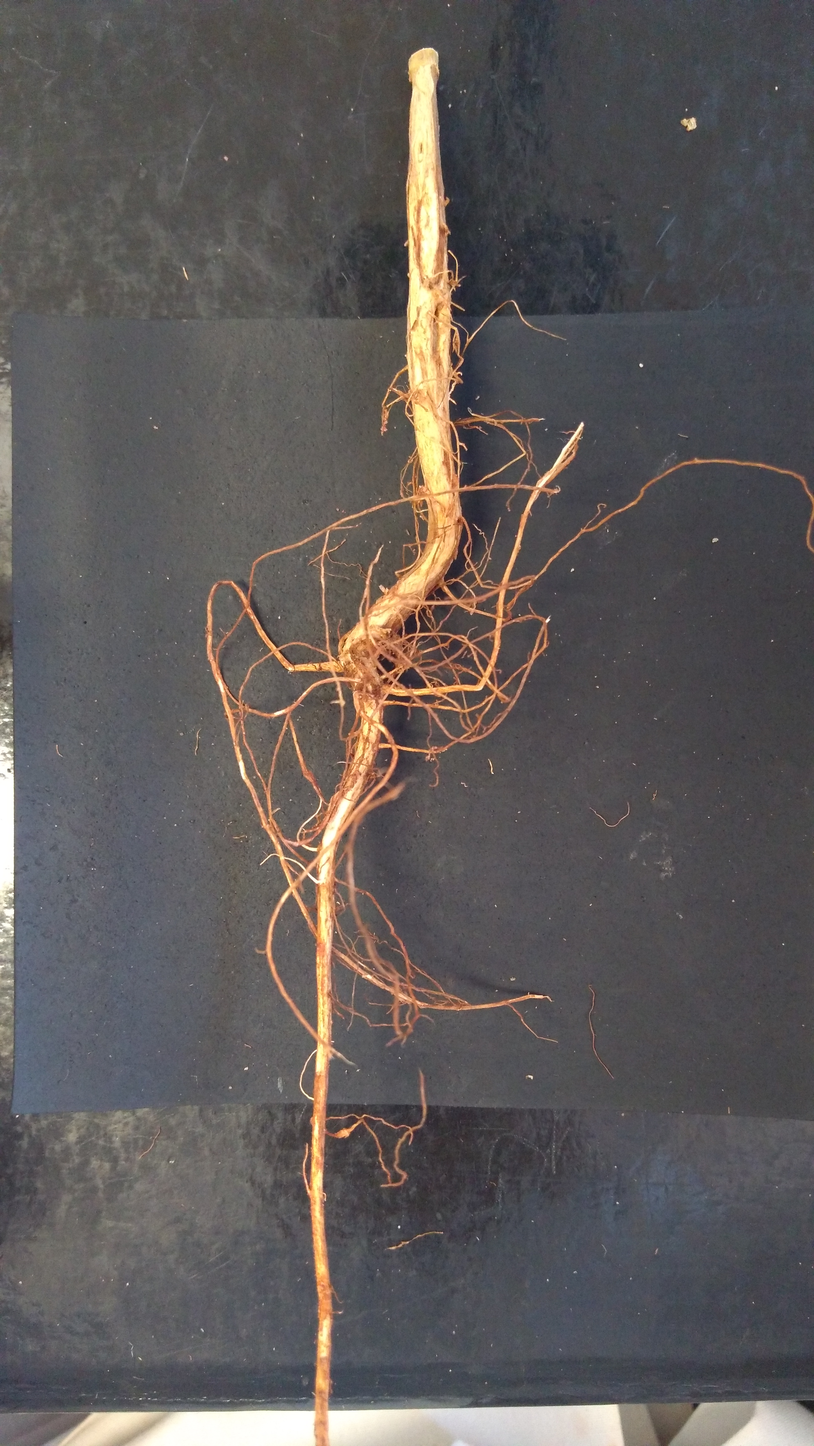nodule: (383, 633, 404, 653), (680, 116, 697, 131), (338, 651, 351, 667), (336, 1128, 350, 1139), (418, 484, 431, 495), (382, 408, 389, 422), (380, 425, 387, 432), (428, 746, 437, 751)
